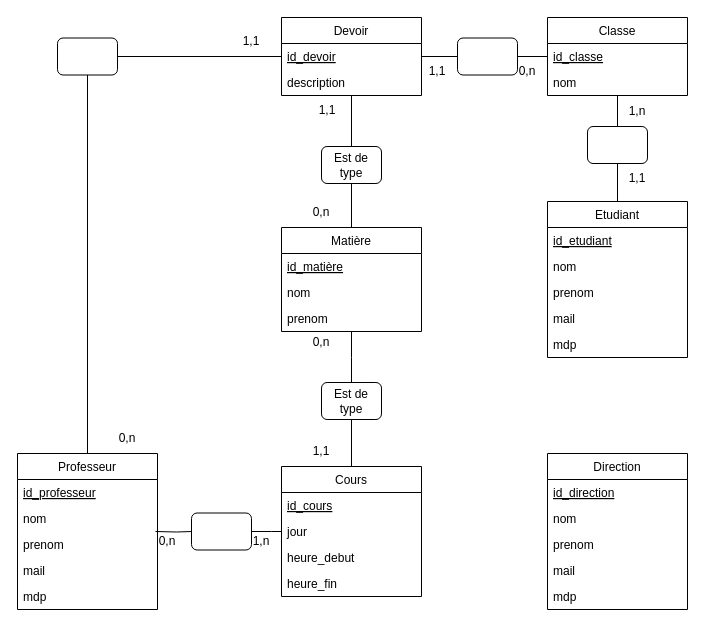
This 705x630 diagram has some shape labels left out. The shapes that lost their labels are listed below. From the top down, each one's centre as x and y in pixels, then its label:
At point (87, 56): "Donne".
At point (487, 56): "Concerne".
At point (617, 145): "Fait partie".
At point (221, 531): "Dirige".
